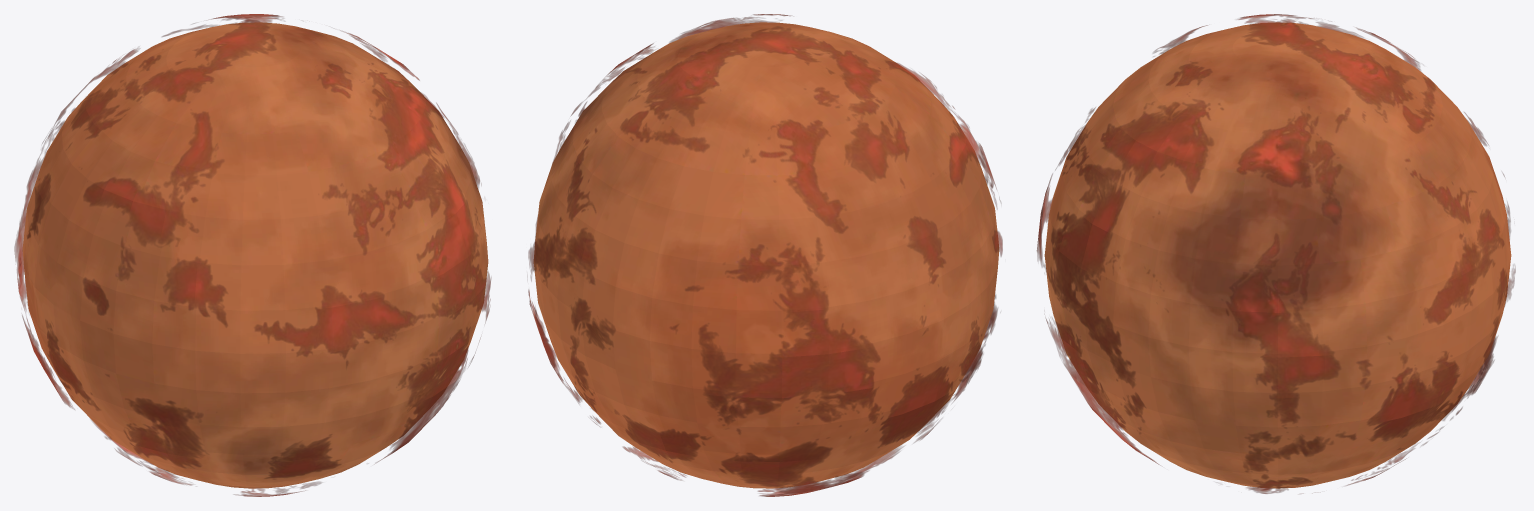
The model's file is fireplanet-transformed.glb.
The picture shows the model from 3 angles, left to right: view 1: azimuth 30°, elevation 25°; view 2: azimuth 150°, elevation 25°; view 3: azimuth 270°, elevation 25°; orthographic projection.
Parts seen in each view (by area): view 1: Planet, Atmosphere; view 2: Planet, Atmosphere; view 3: Planet, Atmosphere.
Part boxes in pixels (<box>): Planet: <box>22,22,488,488</box>; Atmosphere: <box>14,14,491,496</box>; Planet: <box>533,22,999,488</box>; Atmosphere: <box>528,14,1002,496</box>; Planet: <box>1044,22,1511,488</box>; Atmosphere: <box>1036,14,1515,493</box>.
Size of the model in its own units: 2.07 by 2.07 by 2.07.
Materials: 2 (2 with a texture image).
